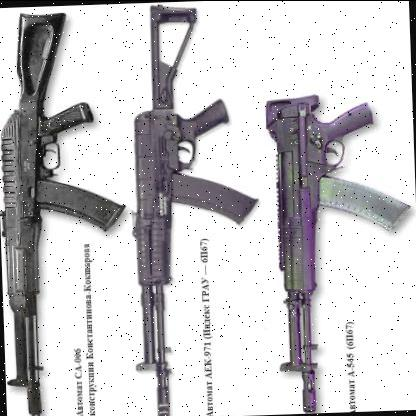rifle: (0, 7, 141, 416), (117, 5, 257, 416), (251, 89, 416, 414)
